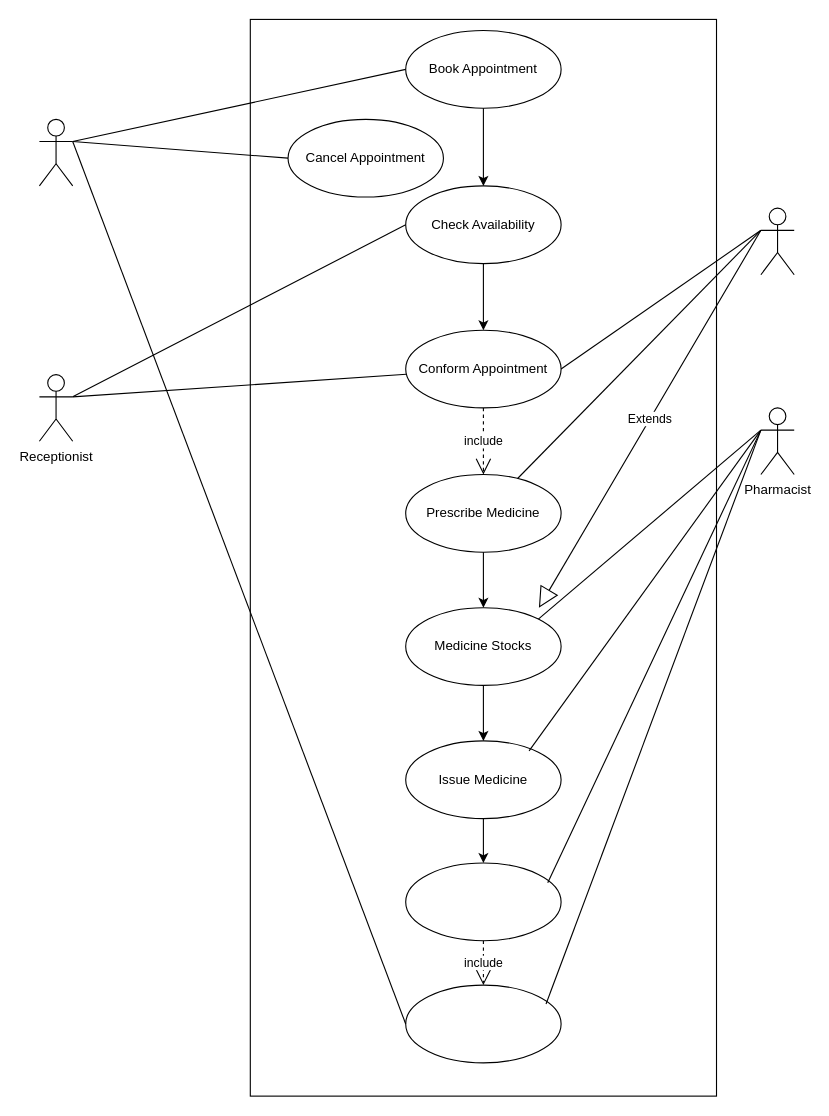
The diagram is 829 pixels wide and 1116 high, and some of its shapes have lost their labels. The centre of each missing label's shape, as x and y in pixels:
"Doctor" belongs at pixel 777 241.
"Generate Bill" belongs at pixel 483 901.
"Patient" belongs at pixel 55 152.
"Payment" belongs at pixel 483 1023.
